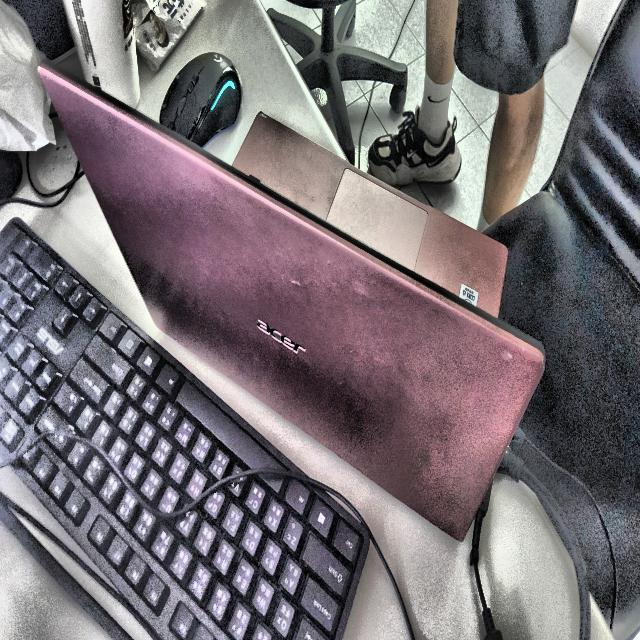laptop: (39, 66, 544, 540)
